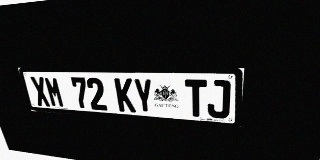2: (85, 77, 107, 111)
7: (69, 77, 91, 109)
J: (207, 80, 231, 119)
K: (114, 78, 136, 113)
M: (43, 77, 65, 108)
T: (185, 79, 207, 117)
X: (29, 76, 51, 107)
Y: (133, 78, 154, 114)
